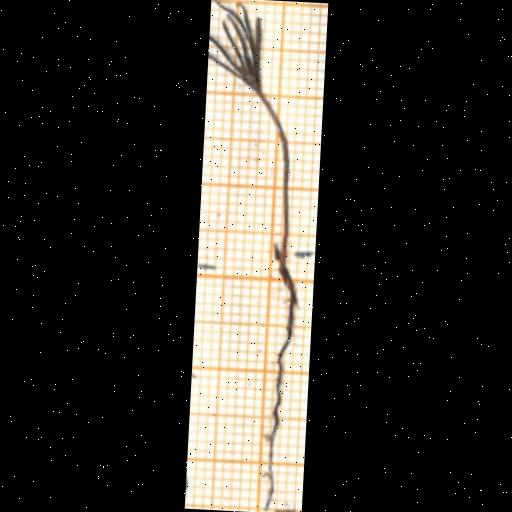flowerPinus: (207, 0, 262, 96)
rootPinus: (263, 256, 298, 509)
stemPinus: (260, 93, 289, 264)
